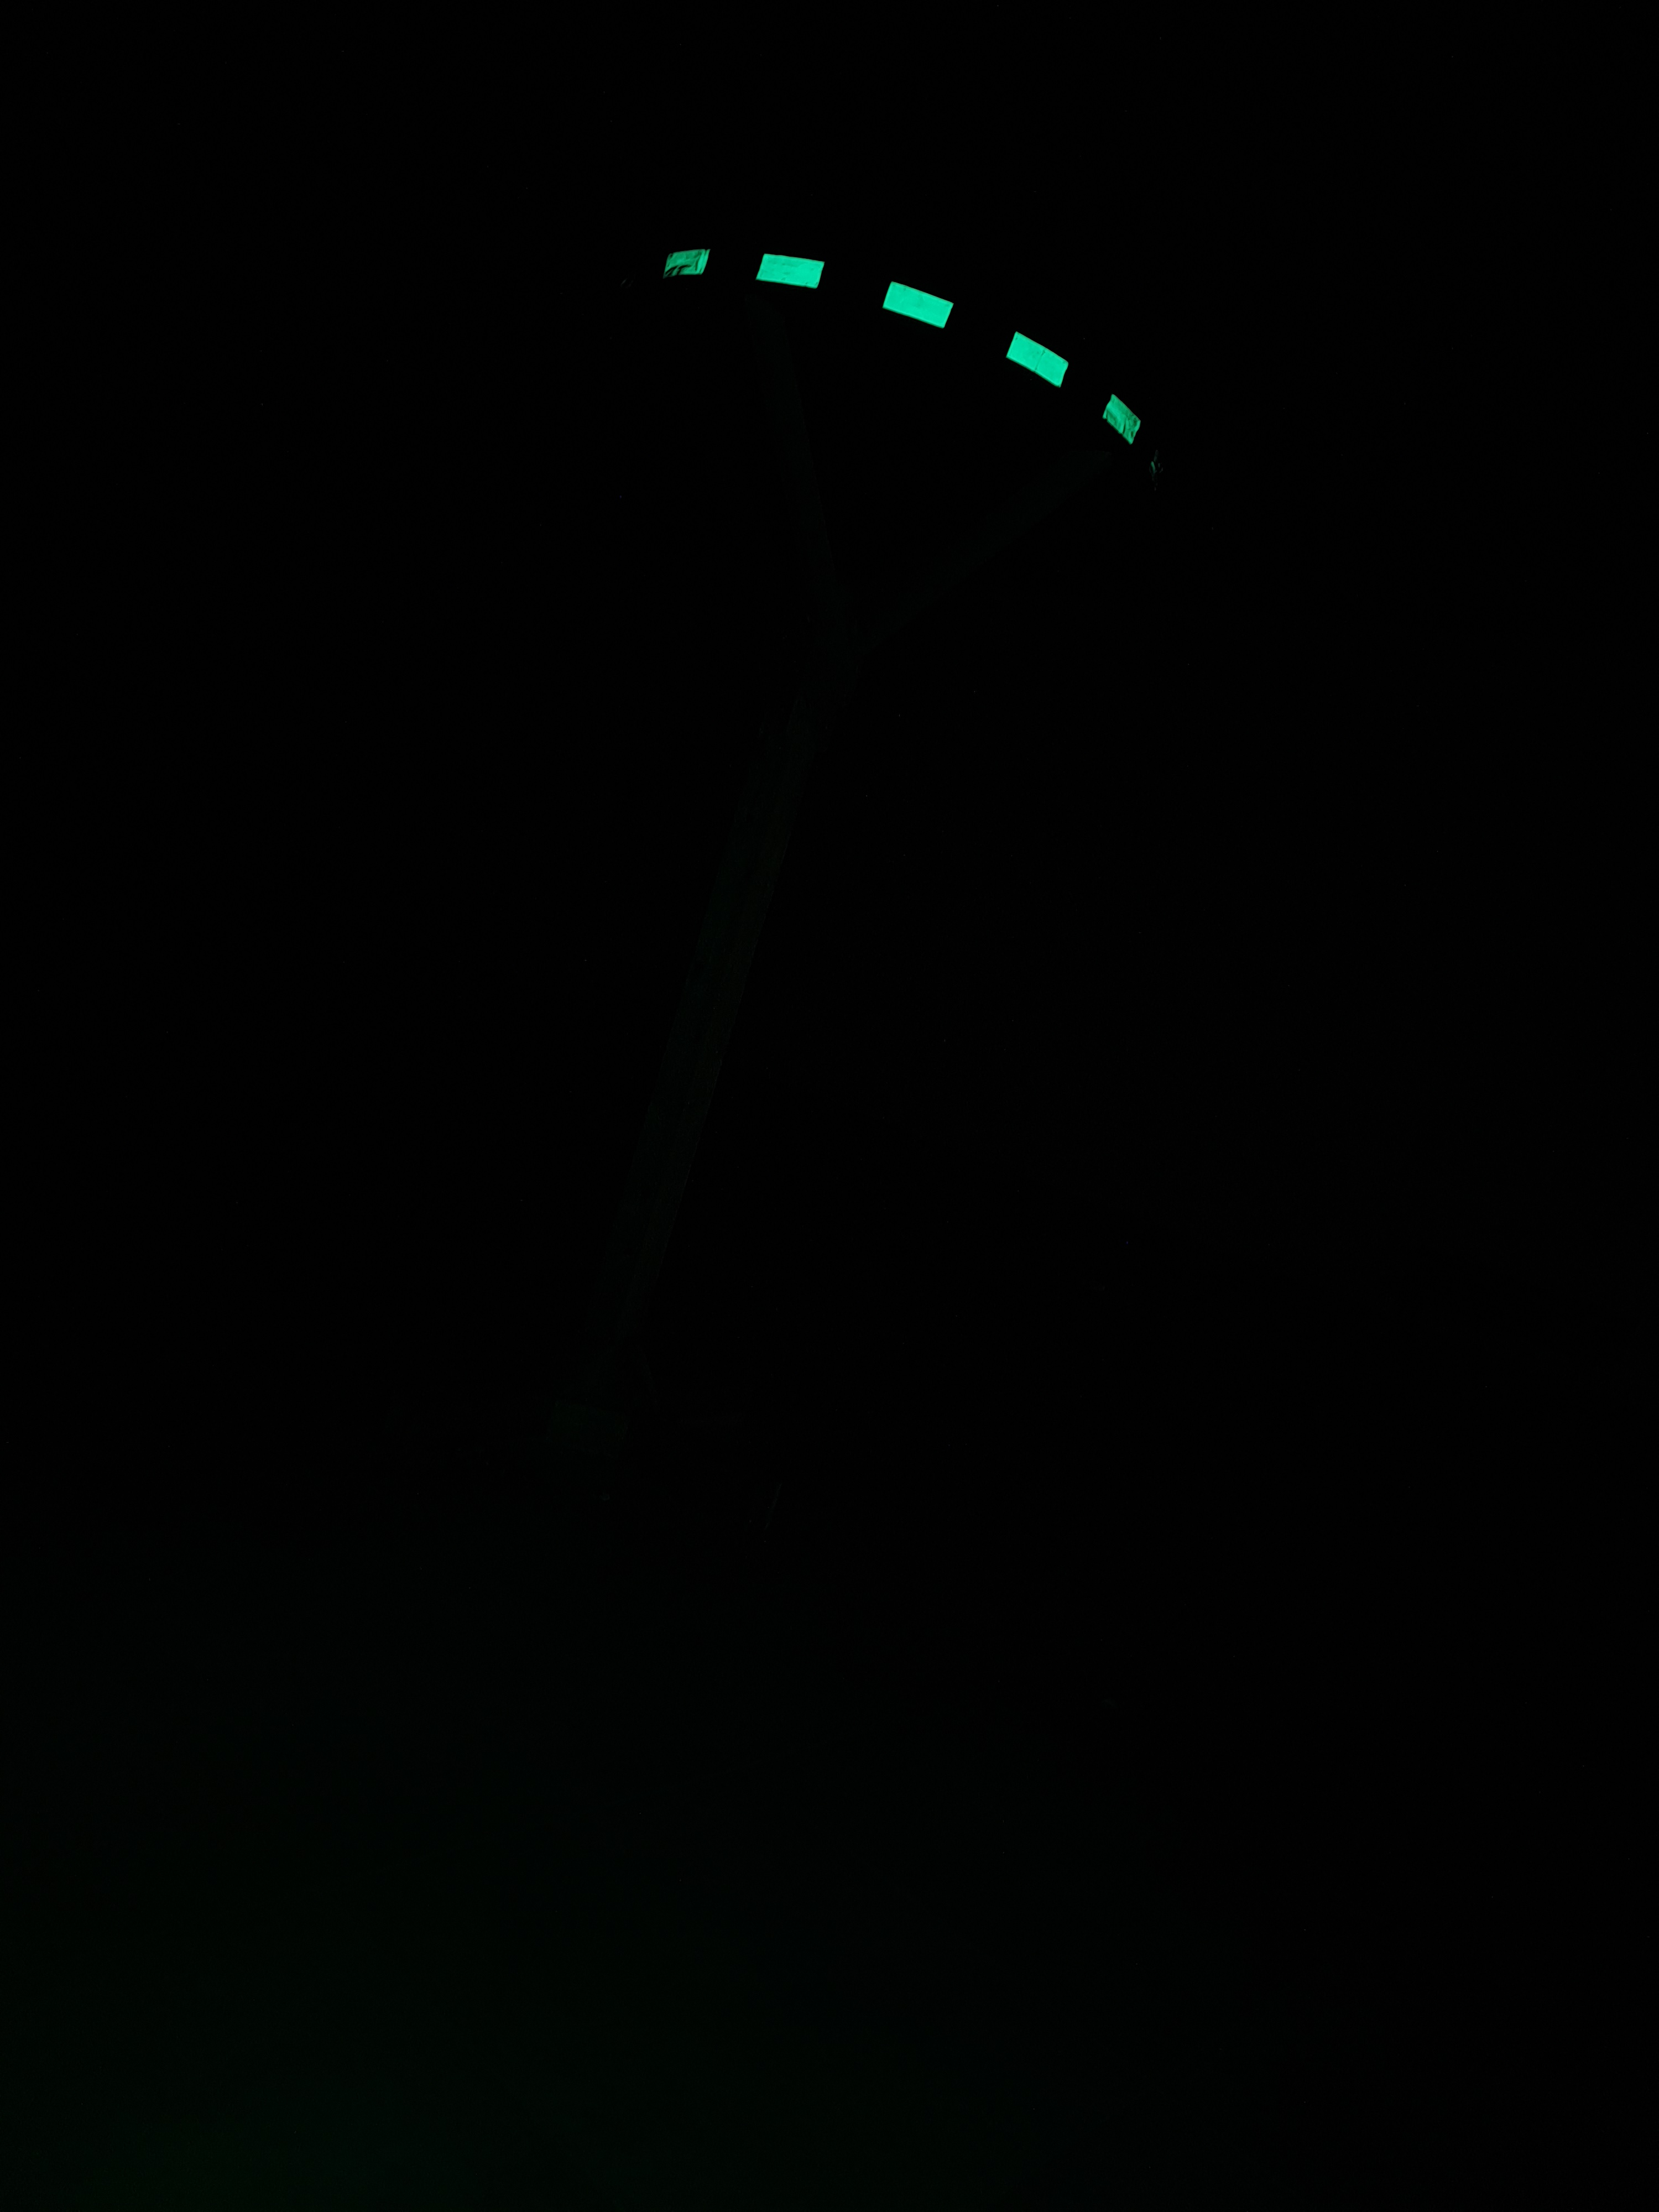hoop: (662, 242, 1143, 446)
